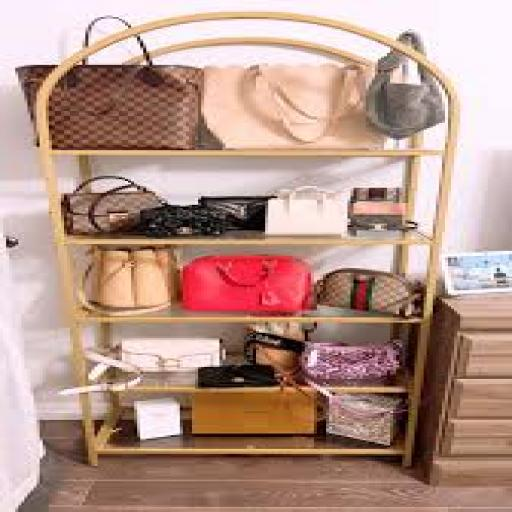door: (12, 12, 214, 157), (162, 251, 340, 321), (70, 239, 185, 323)
road: (3, 3, 471, 477)
